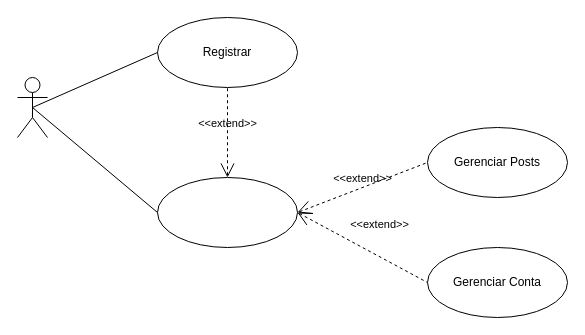
This 585x335 diagram has some shape labels left out. The centre of each missing label's shape, as x and y in pixels:
Login: the point at 227,212
User: the point at 32,107
